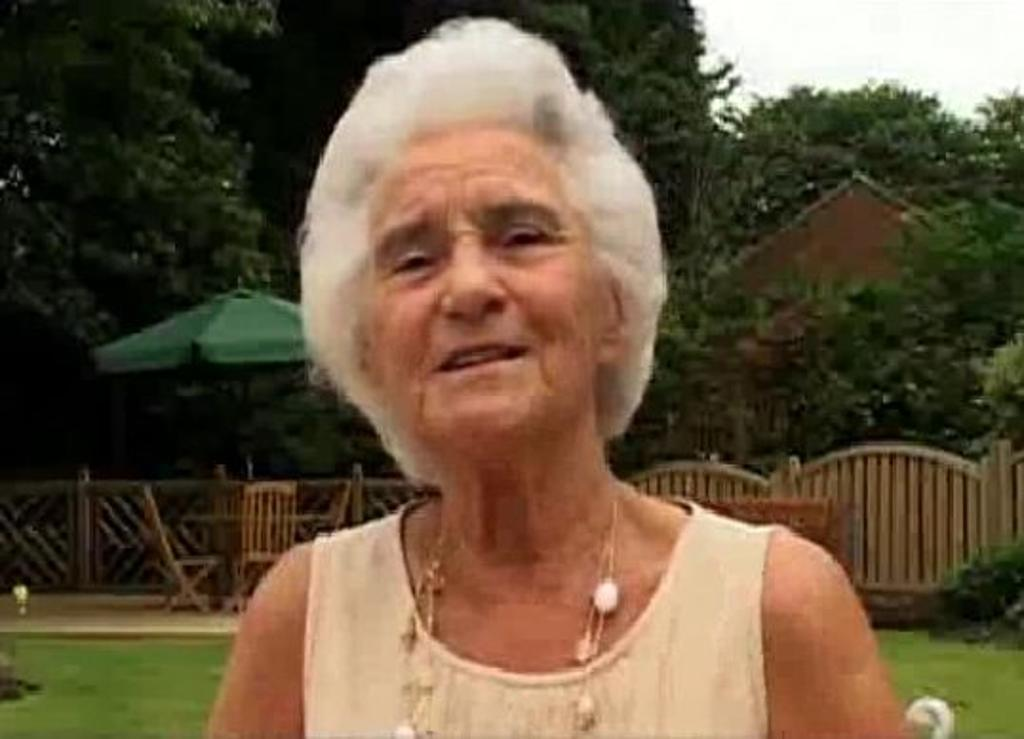face: (355, 163, 603, 433)
